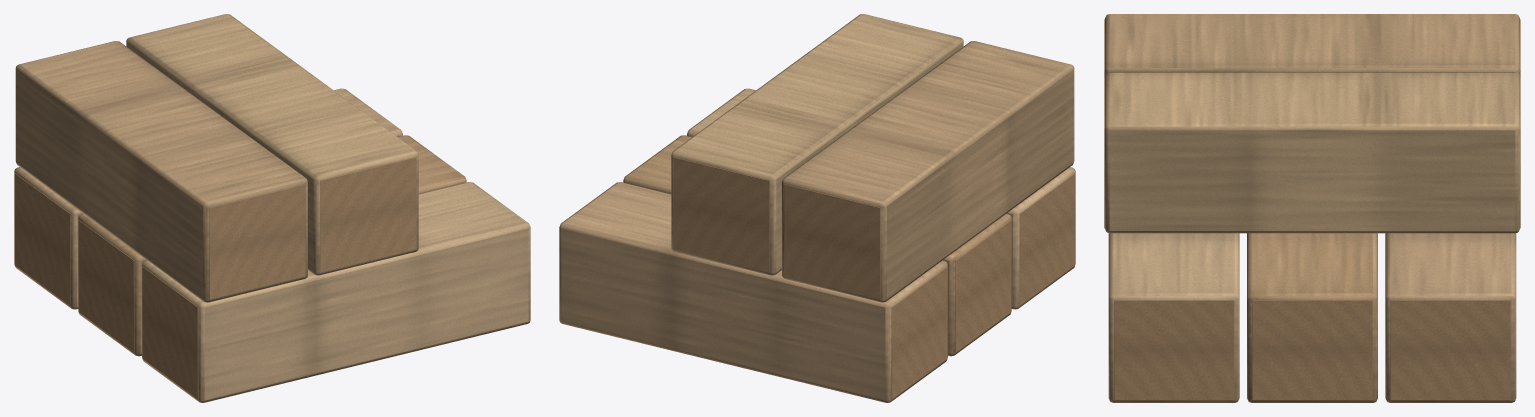
The model's file is 2-crossed-block-layers-1-2.fbx.
3 views of the same model, side by side, from view 1: azimuth 30°, elevation 25°; view 2: azimuth 150°, elevation 25°; view 3: azimuth 270°, elevation 25° (orthographic). The views are drawn at different scales.
Parts seen in each view (by area): view 1: crossed-block-layers-1-2; view 2: crossed-block-layers-1-2; view 3: crossed-block-layers-1-2.
Part boxes in pixels (left/top/right/bottom): crossed-block-layers-1-2: left=14, top=14, right=530, bottom=402; crossed-block-layers-1-2: left=559, top=14, right=1075, bottom=402; crossed-block-layers-1-2: left=1104, top=14, right=1520, bottom=402.
Bounding box in the file's own units: 5515 × 3200 × 5515.
Materials: 1 (1 with a texture image).
